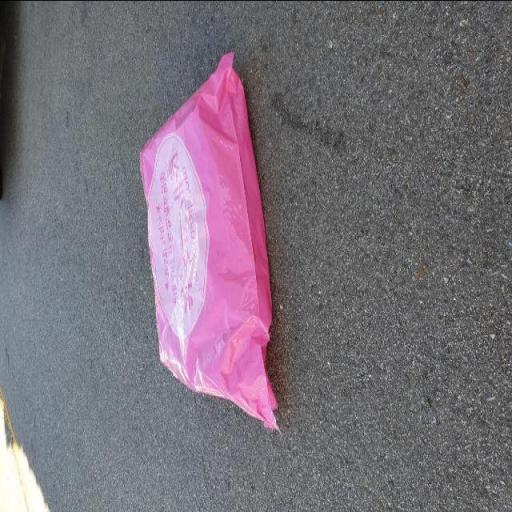plastic-bag: (136, 48, 286, 433)
